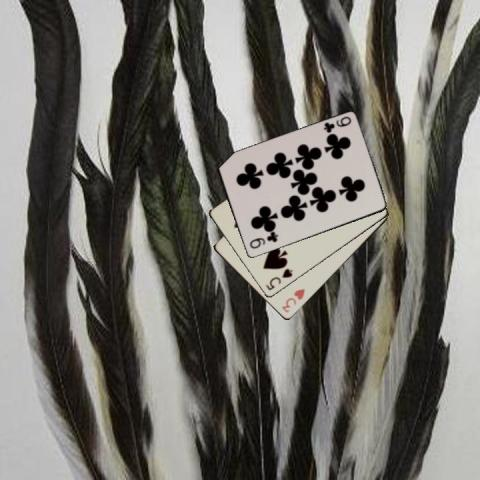3h: (278, 285, 306, 314)
5s: (263, 266, 294, 292)
9c: (320, 113, 352, 135), (247, 231, 279, 251)
